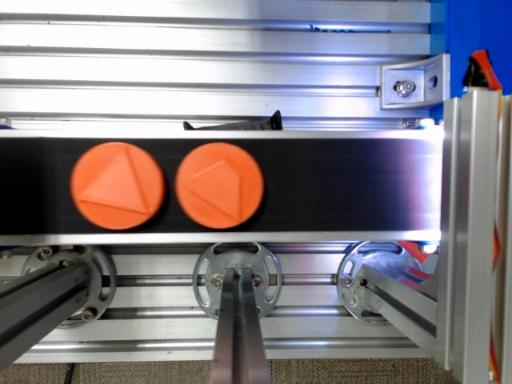Orange_Waper: (70, 142, 165, 229), (175, 142, 264, 228)
